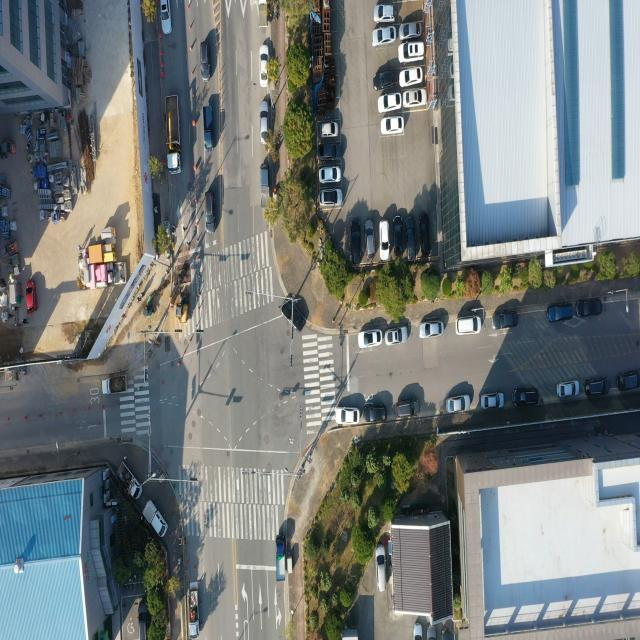car: (281, 297, 302, 333), (418, 212, 431, 256), (404, 214, 416, 260), (373, 68, 398, 90), (375, 545, 386, 593), (583, 377, 611, 395), (576, 300, 602, 319), (548, 305, 574, 324), (159, 0, 172, 38), (205, 190, 216, 234), (618, 368, 640, 390), (373, 27, 397, 47), (456, 316, 482, 334), (446, 395, 472, 413), (514, 388, 540, 406), (492, 313, 518, 331), (334, 406, 360, 424), (350, 224, 361, 266), (393, 217, 404, 259), (378, 94, 401, 114), (382, 115, 404, 135), (419, 321, 443, 339), (258, 46, 268, 89), (319, 187, 341, 206), (385, 327, 408, 345), (400, 42, 424, 59), (363, 406, 387, 423), (479, 393, 504, 409), (401, 22, 422, 41), (399, 68, 421, 86), (405, 90, 427, 108), (395, 402, 417, 420), (24, 281, 36, 314), (380, 221, 390, 260), (376, 4, 396, 23), (359, 332, 381, 349), (558, 381, 580, 398), (364, 327, 386, 344), (319, 167, 340, 184), (262, 102, 270, 146), (364, 224, 373, 258), (320, 144, 339, 160), (202, 42, 209, 82), (320, 124, 338, 139), (414, 623, 424, 640), (0, 174, 8, 186)
medium_truck: (164, 98, 182, 174)
small_truck: (116, 460, 141, 502), (143, 499, 167, 538), (187, 587, 200, 637), (202, 104, 214, 152), (102, 373, 127, 396), (274, 536, 286, 582), (259, 167, 270, 208)
